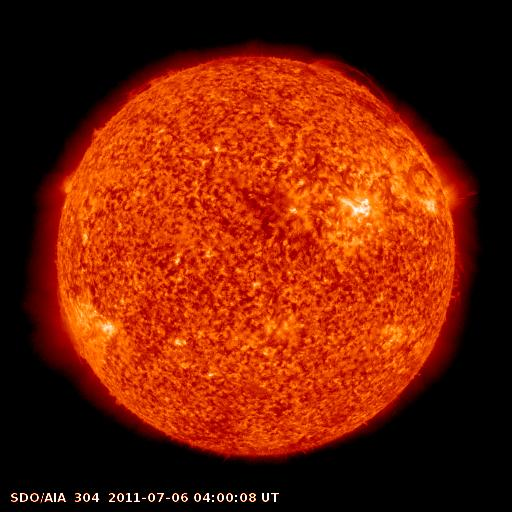prominence: (306, 52, 392, 104), (123, 65, 183, 102), (78, 119, 107, 143)
